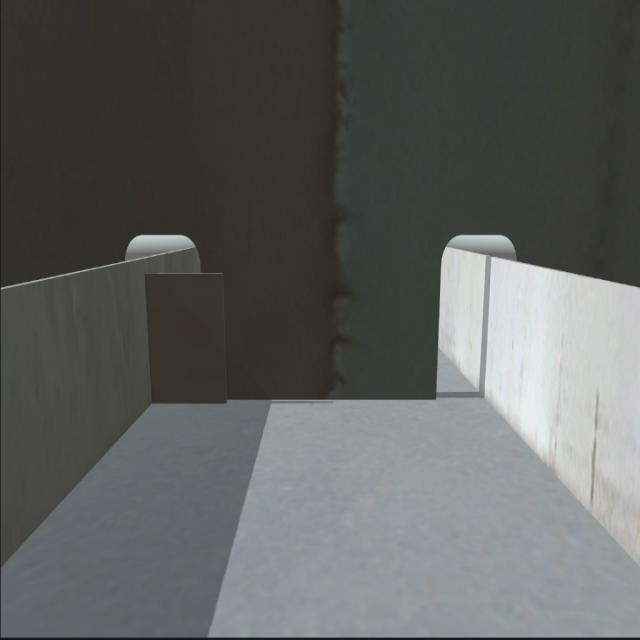fillet_yong_jeop_jang: (149, 388, 445, 406)
longi_yong_jeop_jang: (138, 264, 159, 409)
plate_CP01: (147, 274, 229, 408)
